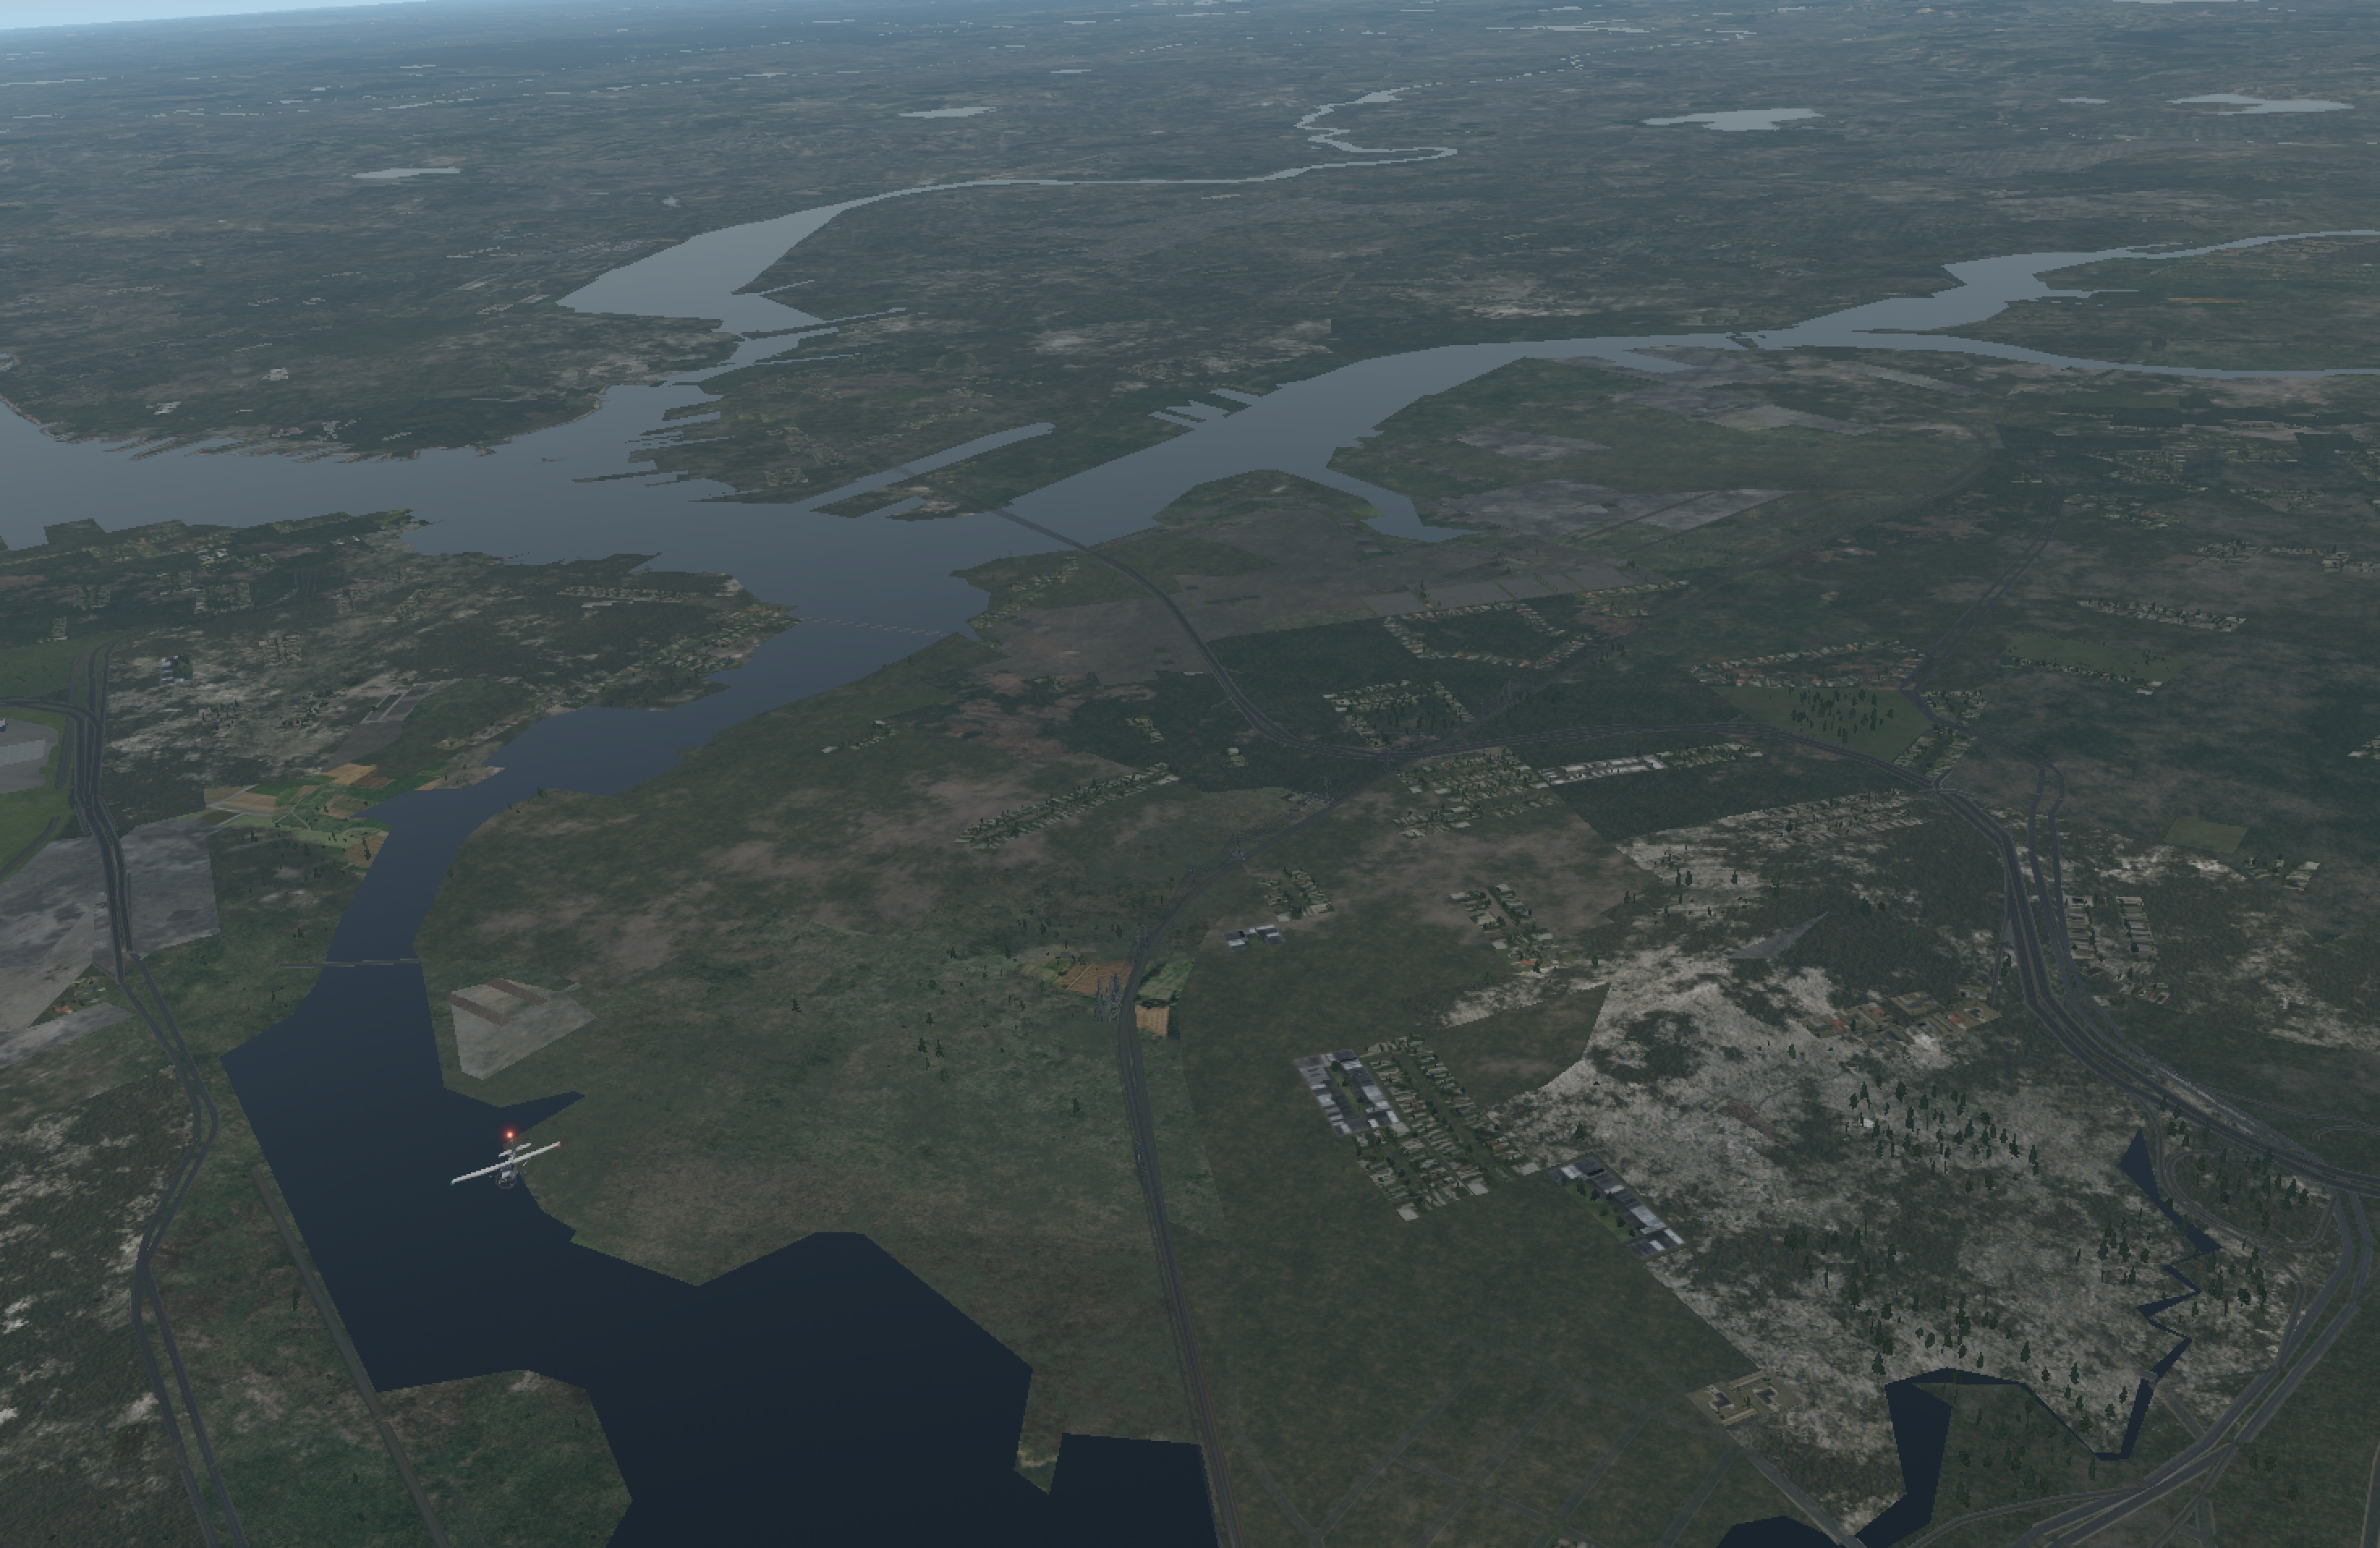aircraft: (472, 1156, 546, 1184)
